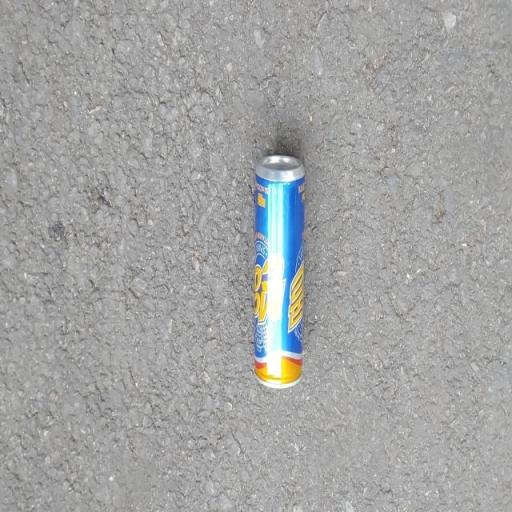metal: (233, 115, 323, 425)
